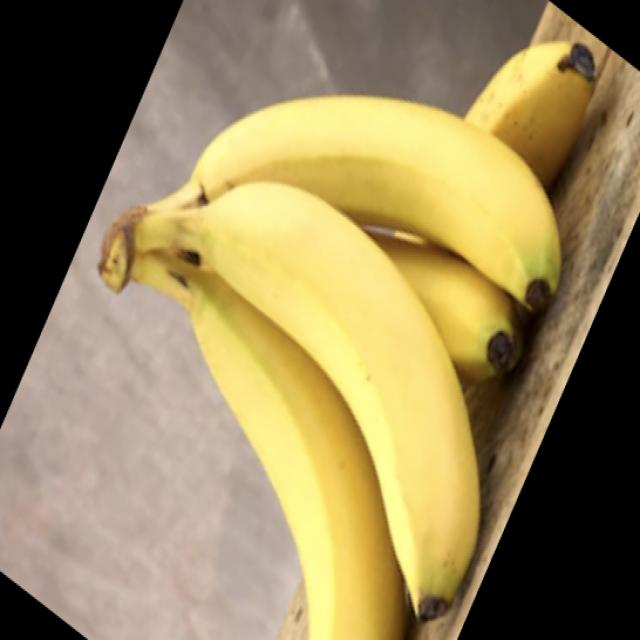god quality banana: (98, 41, 594, 639)
